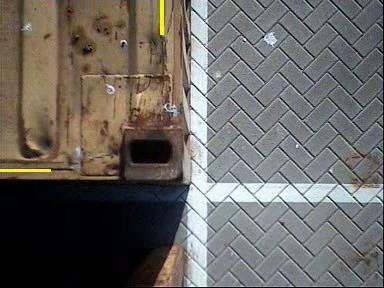groundmarker_2: (110, 25, 168, 70), (109, 145, 167, 190)
